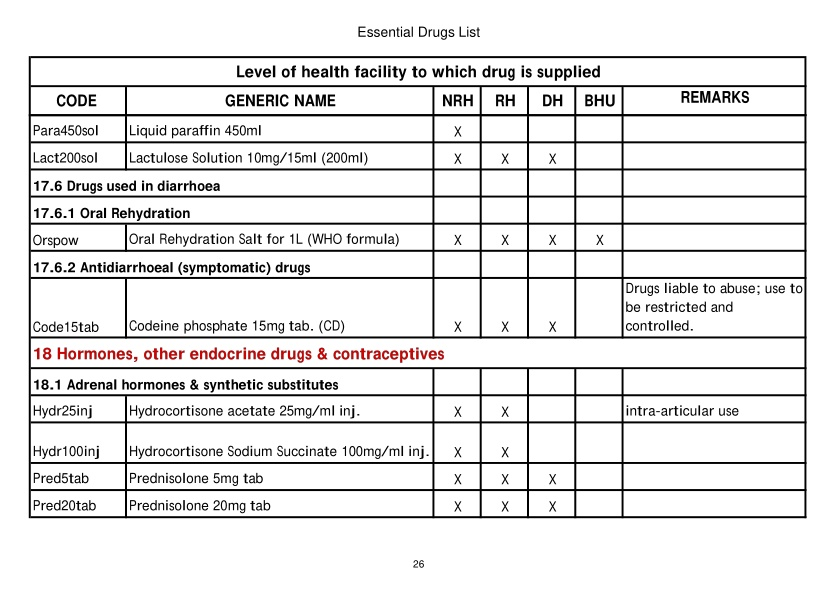merged_cells: (28, 55, 807, 519)
